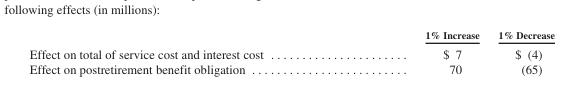table: (28, 28, 553, 76)
table column: (28, 28, 343, 76), (343, 28, 488, 76), (488, 28, 553, 76)
table column header: (28, 28, 553, 43)
table row: (28, 43, 553, 61), (28, 28, 553, 43), (28, 61, 553, 76)
